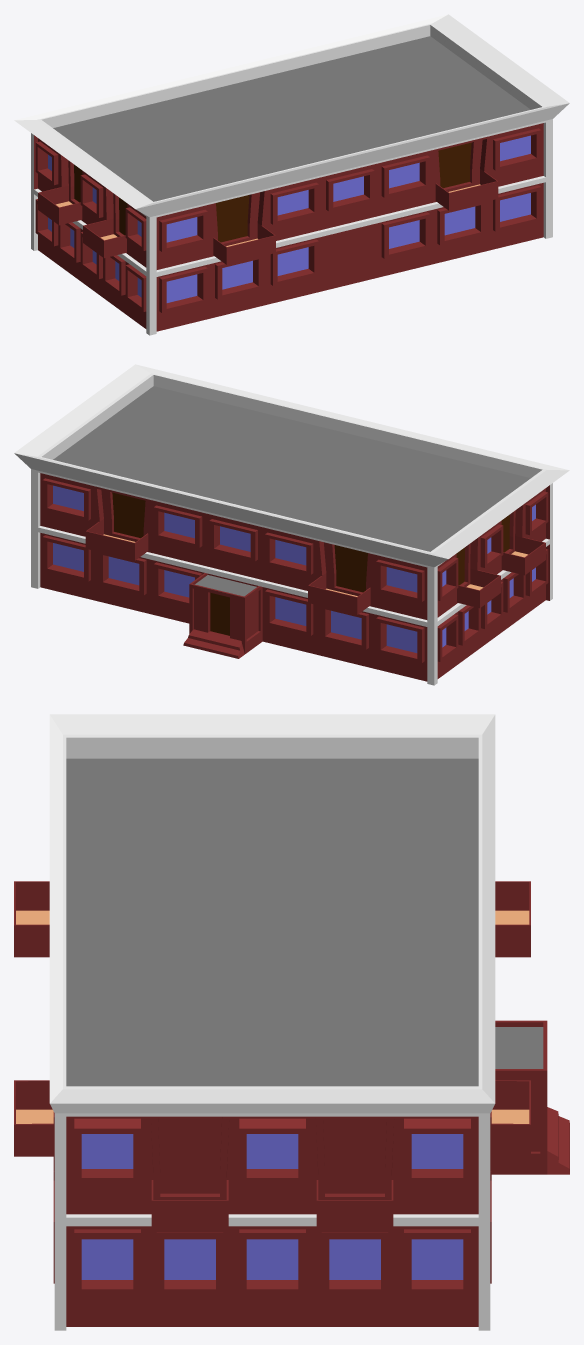
The model's file is Apartment Red Bottom.FBX.
The picture shows the model from 3 angles, top to bottom: view 1: azimuth 30°, elevation 25°; view 2: azimuth 150°, elevation 25°; view 3: azimuth 270°, elevation 25°; orthographic projection. The views are drawn at different scales.
Parts seen in each view (by area): view 1: Apartment red bottom; view 2: Apartment red bottom; view 3: Apartment red bottom.
Part boxes in pixels (x1,y1,x2,y2): Apartment red bottom: (14, 14, 569, 335); Apartment red bottom: (14, 364, 569, 685); Apartment red bottom: (14, 714, 569, 1330).
Size of the model in its own units: 1231 by 349 by 731.
1 material, 1 textured.
